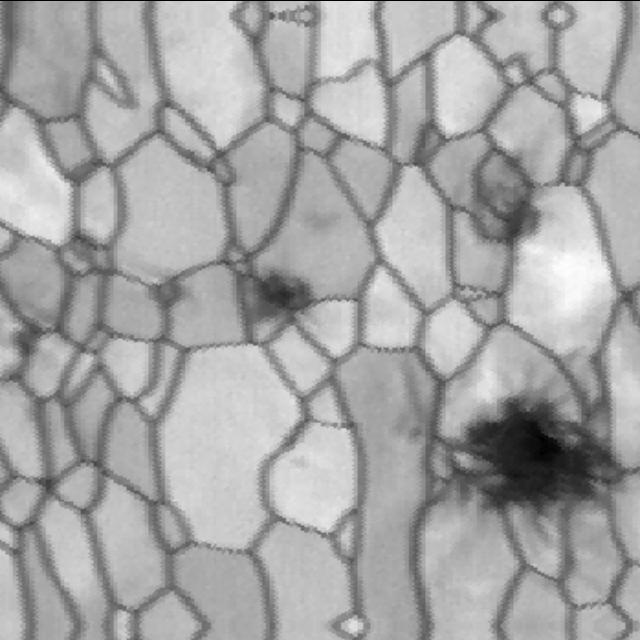good_void: (444, 135, 575, 274), (238, 248, 333, 339), (127, 251, 205, 329), (282, 448, 319, 483)
